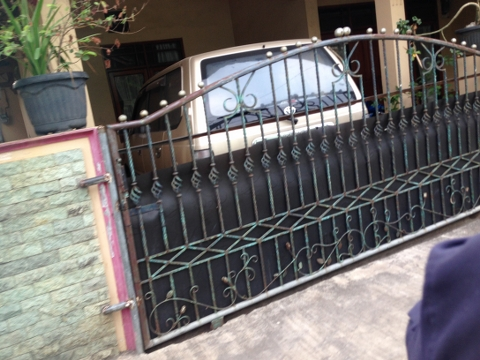mobil: (124, 38, 370, 166)
